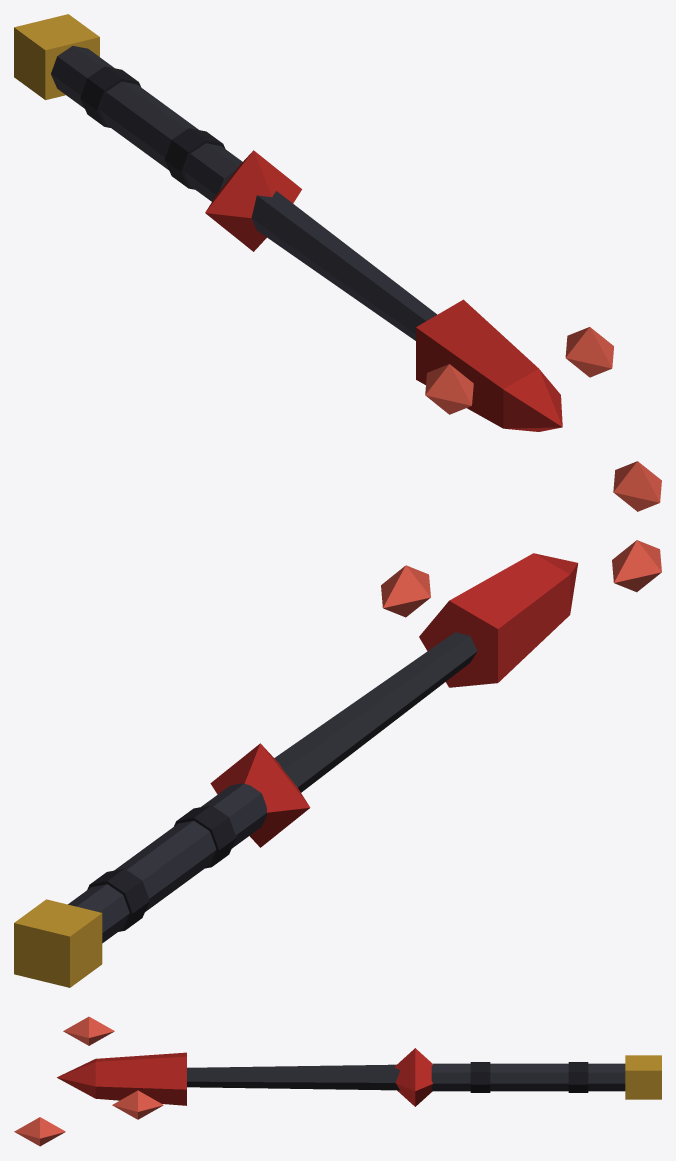
The model's file is 15_Wand.glb.
The picture shows the model from 3 angles, top to bottom: view 1: azimuth 30°, elevation 25°; view 2: azimuth 150°, elevation 25°; view 3: azimuth 270°, elevation 25°; orthographic projection. The views are drawn at different scales.
Parts seen in each view (by area): view 1: 15_Wand; view 2: 15_Wand; view 3: 15_Wand.
Part boxes in pixels (x1=…): 15_Wand: x1=14, y1=14, x2=661, y2=511; 15_Wand: x1=14, y1=540, x2=661, y2=987; 15_Wand: x1=14, y1=1016, x2=661, y2=1146.
Size of the model in its own units: 0.19 by 0.12 by 0.7944.
